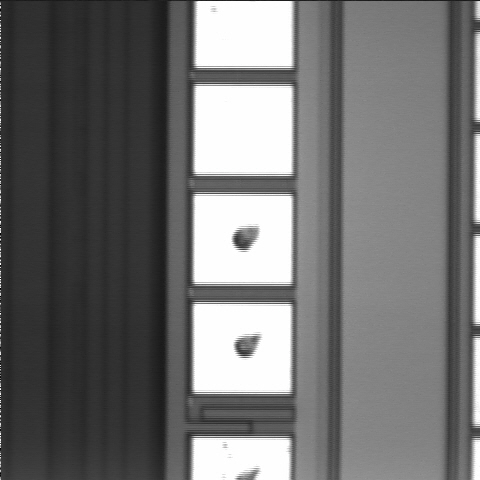pad: (194, 194, 292, 284), (194, 86, 293, 174), (194, 304, 291, 392)
